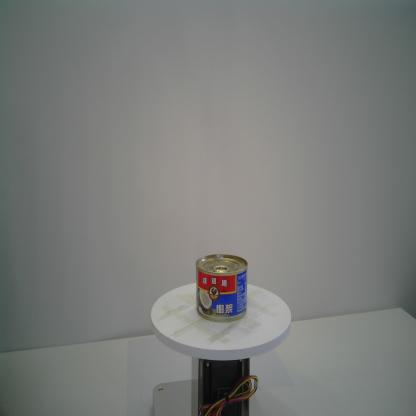Canned Food: (193, 253, 250, 325)
